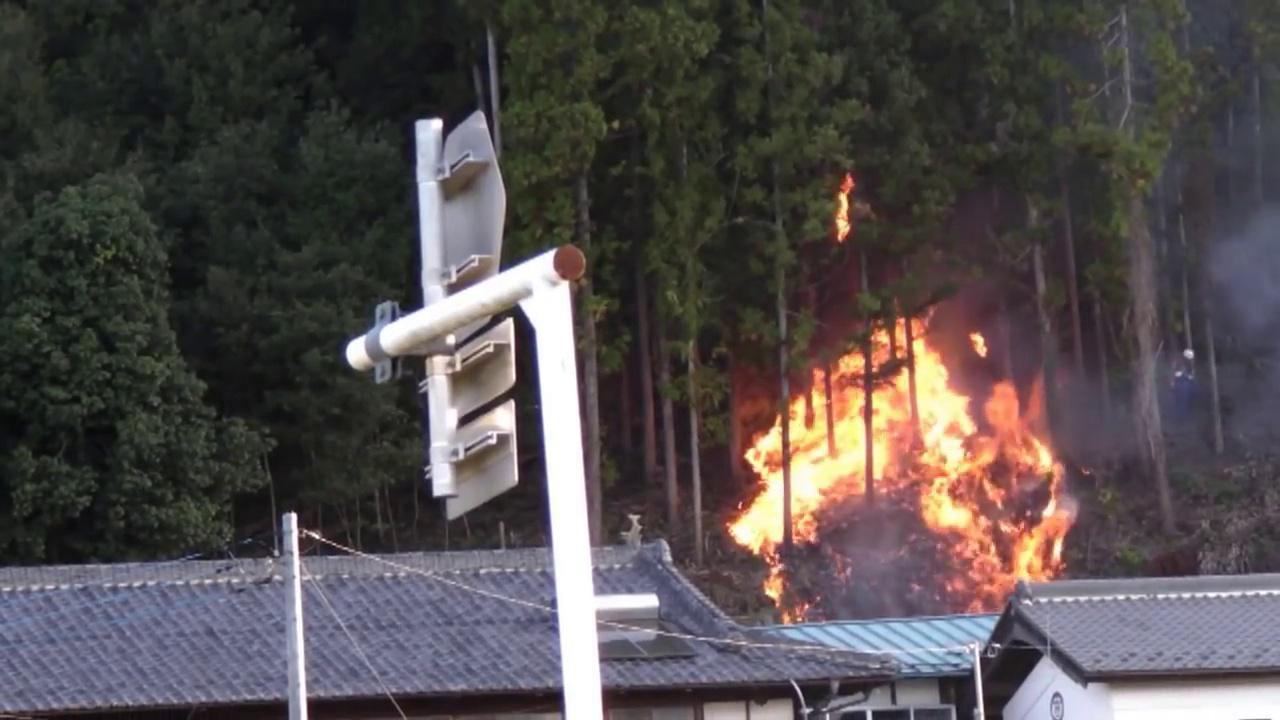Fire: (725, 307, 1084, 622), (834, 170, 856, 244)
